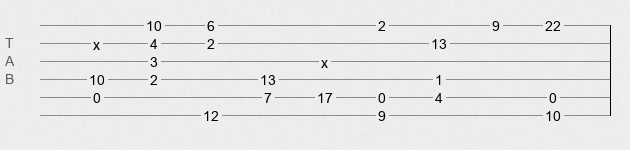0: (93, 90, 101, 100), (378, 90, 386, 100), (549, 90, 557, 100)
1: (435, 72, 443, 82)
10: (89, 72, 105, 82), (146, 18, 162, 28), (545, 108, 561, 118)
12: (203, 108, 219, 118)
13: (260, 72, 276, 82), (431, 36, 447, 46)
17: (317, 90, 333, 100)
2: (150, 72, 158, 82), (207, 36, 215, 46), (378, 18, 386, 28)
22: (545, 18, 561, 28)
3: (150, 54, 158, 64)
4: (150, 36, 158, 46), (435, 90, 443, 100)
6: (207, 18, 215, 28)
7: (264, 90, 272, 100)
9: (378, 108, 386, 118), (492, 18, 500, 28)
x: (93, 37, 100, 45), (321, 55, 328, 63)
